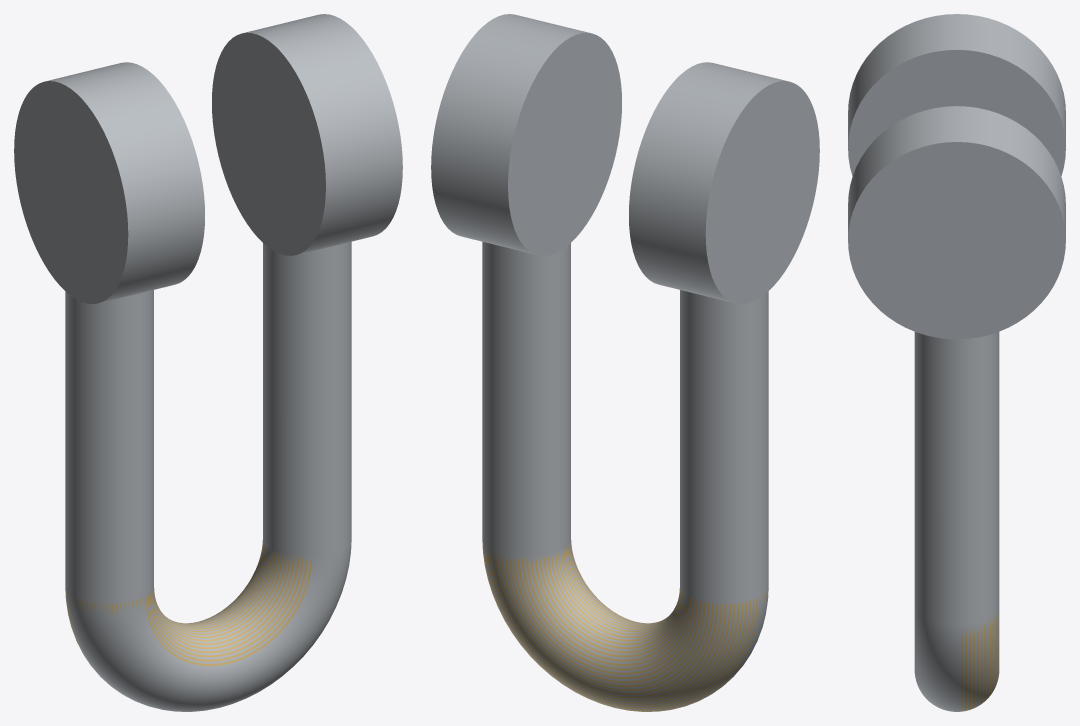
The model's file is step_02.glb.
3 views of the same model, side by side, from view 1: azimuth 30°, elevation 25°; view 2: azimuth 150°, elevation 25°; view 3: azimuth 270°, elevation 25° (orthographic). The views are drawn at different scales.
Parts seen in each view (by area): view 1: part__bow shackle, added__bow shackle; view 2: part__bow shackle, added__bow shackle; view 3: part__bow shackle, added__bow shackle.
Boxes of the visible parts, x1,y1,x2,y2 form: part__bow shackle: (14, 14, 402, 711); added__bow shackle: (65, 540, 311, 665); part__bow shackle: (431, 14, 819, 711); added__bow shackle: (482, 540, 768, 711); part__bow shackle: (848, 14, 1065, 711); added__bow shackle: (961, 613, 998, 711).
Bounding box in the file's own units: 50 × 113 × 36.
